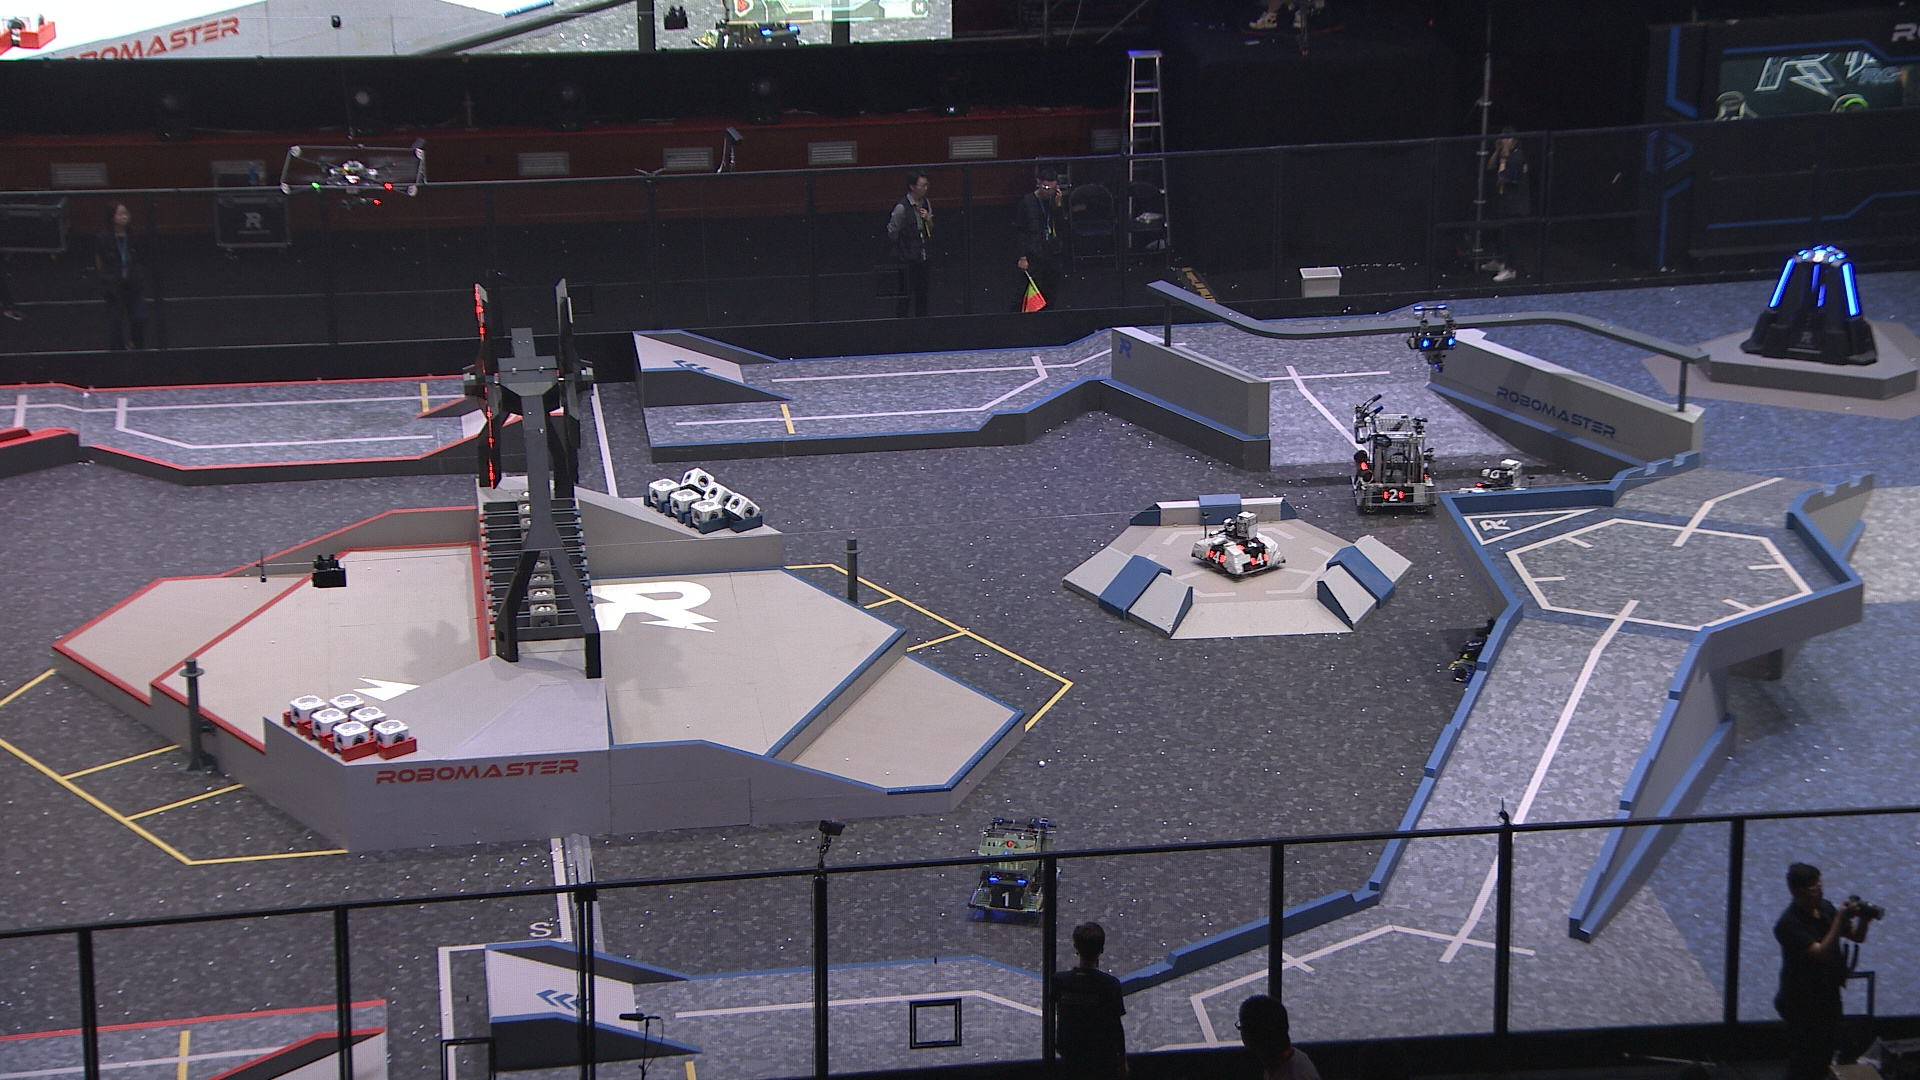armor: (1768, 256, 1793, 310), (1841, 261, 1861, 318), (986, 889, 1022, 910), (1803, 248, 1840, 262), (1423, 338, 1457, 352), (1236, 537, 1265, 553), (1809, 262, 1822, 295), (1378, 487, 1404, 502), (1207, 547, 1226, 566), (1465, 637, 1486, 651), (1247, 553, 1269, 567), (1815, 284, 1826, 306)
base: (1735, 245, 1879, 367)
car: (968, 818, 1060, 922), (1348, 414, 1439, 517), (1189, 512, 1288, 580), (1449, 613, 1539, 684), (1455, 458, 1534, 526)
watcher: (1403, 302, 1458, 371)
